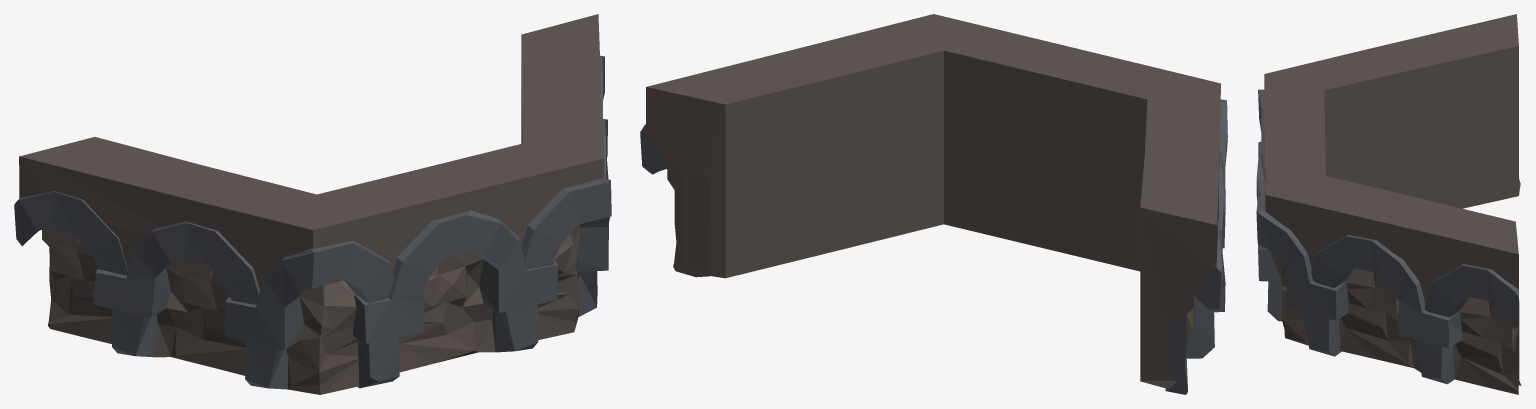
Rendered from MCastle_SmallTurret_06.FBX.
3 views of the same model, side by side, from view 1: azimuth 30°, elevation 25°; view 2: azimuth 150°, elevation 25°; view 3: azimuth 270°, elevation 25° (orthographic). The views are drawn at different scales.
Parts seen in each view (by area): view 1: MCastle_SmallTurret_06_Arches_LOD0; view 2: MCastle_SmallTurret_06_Arches_LOD0; view 3: MCastle_SmallTurret_06_Arches_LOD0.
Part boxes in pixels (x1,y1,x2,y2): MCastle_SmallTurret_06_Arches_LOD0: (14, 14, 611, 394); MCastle_SmallTurret_06_Arches_LOD0: (640, 14, 1227, 394); MCastle_SmallTurret_06_Arches_LOD0: (1256, 14, 1521, 394).
Size of what is drawn, in the model's own units: 6.35 by 1.86 by 2.91.
